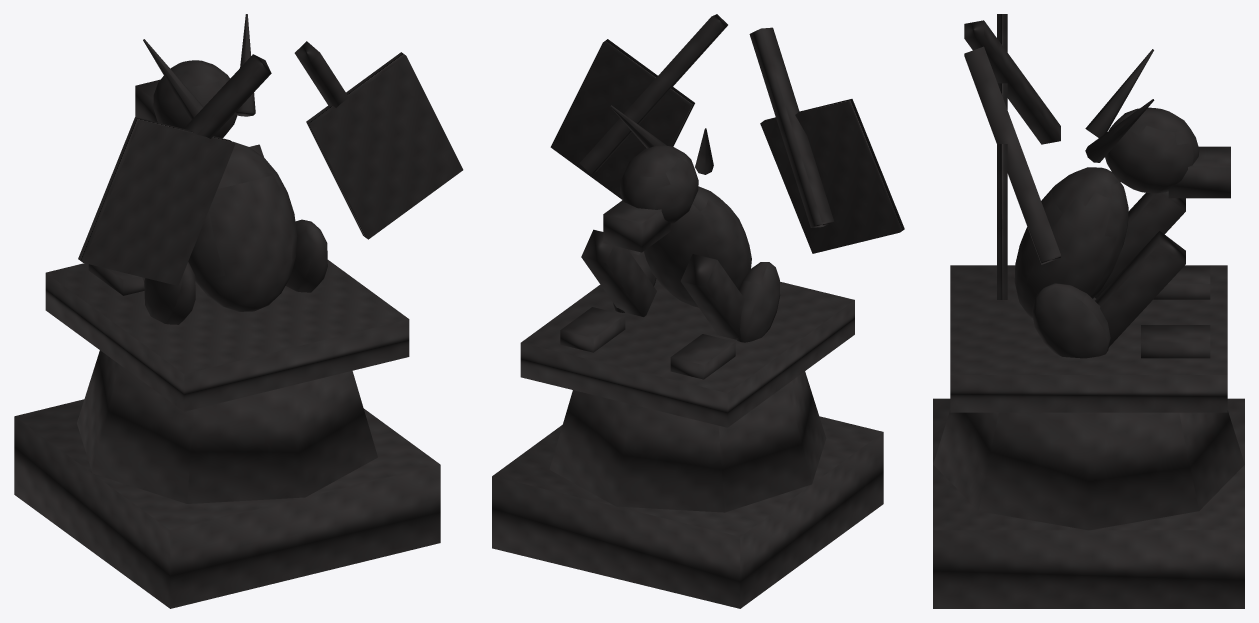
File: Gargoyle_DarkStone_LOD0.glb
3 renders of one model, left to right at view 1: azimuth 30°, elevation 25°; view 2: azimuth 150°, elevation 25°; view 3: azimuth 270°, elevation 25°, orthographic. The views are drawn at different scales.
Visible parts, largest first — view 1: Gargoyle_DarkStone_LOD0; view 2: Gargoyle_DarkStone_LOD0; view 3: Gargoyle_DarkStone_LOD0.
Boxes of the visible parts, left/top/right/bottom form: Gargoyle_DarkStone_LOD0: left=14, top=14, right=463, bottom=608; Gargoyle_DarkStone_LOD0: left=492, top=14, right=904, bottom=608; Gargoyle_DarkStone_LOD0: left=933, top=14, right=1244, bottom=608.
Bounding box in the file's own units: 1.27 × 1.62 × 0.9.
Materials: 1 (1 with a texture image).
